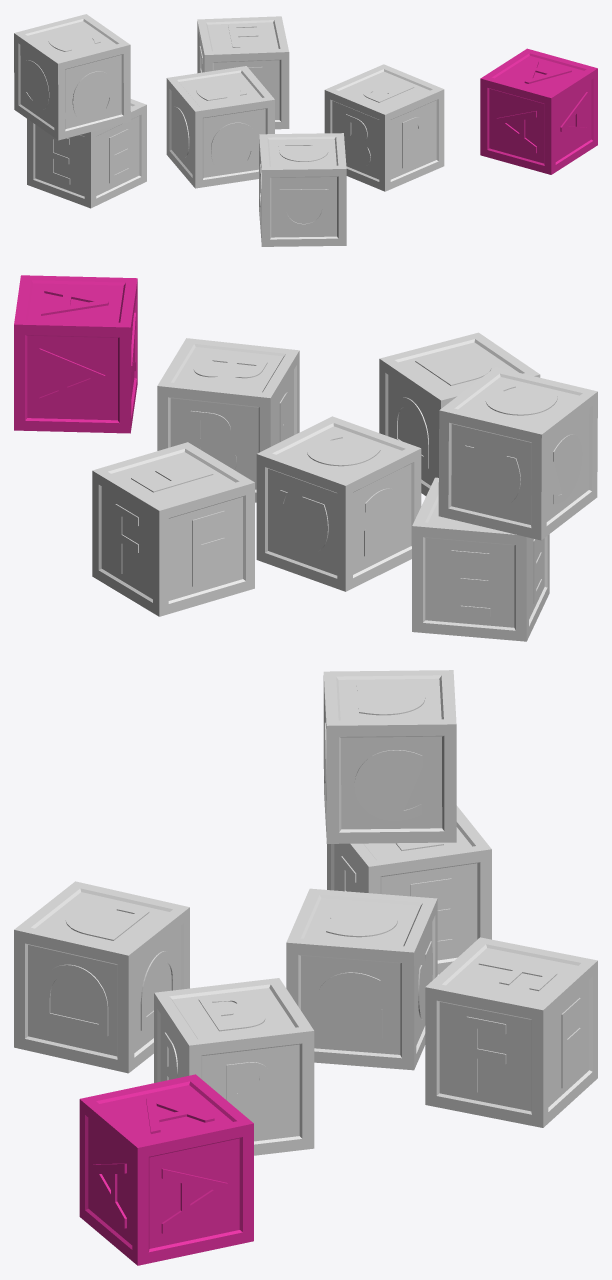
Rendered from ToyBlocks.fbx.
3 renders of one model, top to bottom at view 1: azimuth 30°, elevation 25°; view 2: azimuth 150°, elevation 25°; view 3: azimuth 270°, elevation 25°, orthographic. The views are drawn at different scales.
Visible parts, largest first — view 1: Blok A, Blok C, Blok B, Blok G, Blok D, Blok E, Blok F; view 2: Blok F, Blok G, Blok C, Blok A, Blok E, Blok B, Blok D; view 3: Blok A, Blok F, Blok D, Blok G, Blok C, Blok B, Blok E.
Part boxes in pixels (<box>): Blok A: <box>480,48,597,174</box>; Blok C: <box>14,14,130,140</box>; Blok B: <box>324,64,444,191</box>; Blok G: <box>166,66,274,188</box>; Blok D: <box>259,133,346,246</box>; Blok E: <box>27,99,146,208</box>; Blok F: <box>197,16,289,129</box>; Blok F: <box>92,442,254,616</box>; Blok G: <box>256,416,421,591</box>; Blok C: <box>438,367,597,540</box>; Blok A: <box>14,275,137,433</box>; Blok E: <box>412,477,549,641</box>; Blok B: <box>157,338,299,502</box>; Blok D: <box>379,332,540,495</box>; Blok A: <box>79,1074,253,1265</box>; Blok F: <box>425,937,597,1127</box>; Blok D: <box>14,881,189,1073</box>; Blok G: <box>286,888,437,1070</box>; Blok C: <box>323,670,456,843</box>; Blok B: <box>154,978,314,1155</box>; Blok E: <box>327,805,491,974</box>.
Bounding box in the file's own units: 1245 × 382 × 855.
